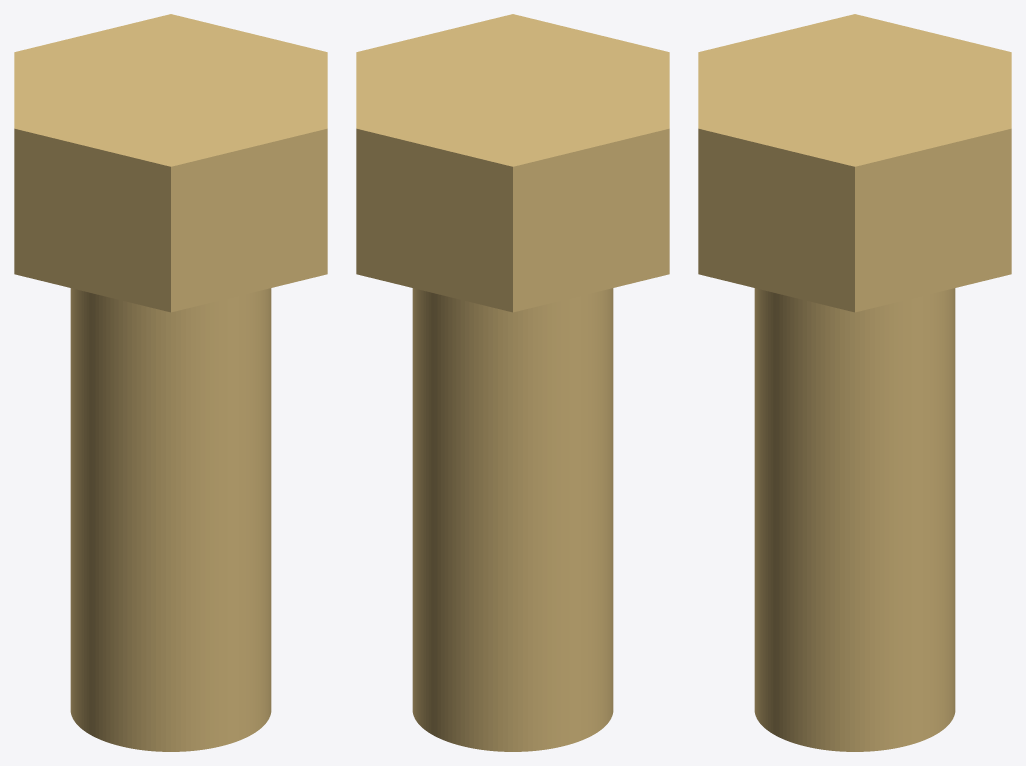
The model's file is iac-mount-screw-estimated.glb.
3 renders of one model, left to right at view 1: azimuth 30°, elevation 25°; view 2: azimuth 150°, elevation 25°; view 3: azimuth 270°, elevation 25°, orthographic.
Parts seen in each view (by area): view 1: world; view 2: world; view 3: world.
Part boxes in pixels (x1,y1,x2,y2): world: (14, 14, 327, 751); world: (356, 14, 669, 751); world: (698, 14, 1011, 751).
Bounding box in the file's own units: 0.009 × 0.017 × 0.00779.
